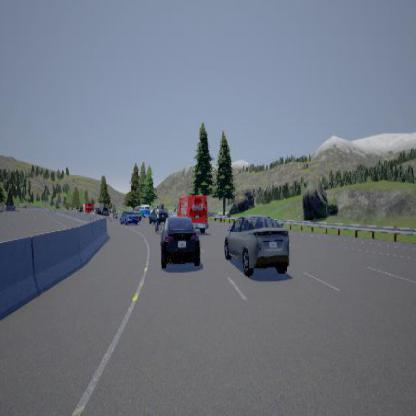vehicle: (224, 213, 288, 276), (158, 195, 208, 267), (119, 203, 155, 224), (76, 202, 108, 216)
